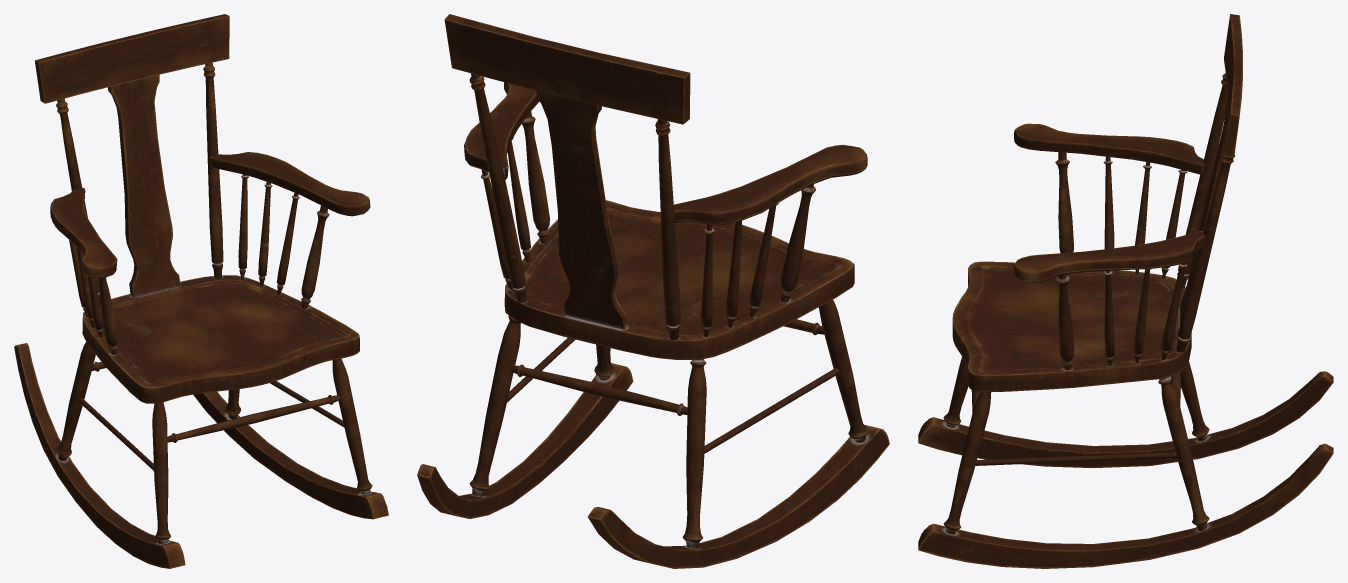
File: Rockingchair_01.glb
3 views of the same model, side by side, from view 1: azimuth 30°, elevation 25°; view 2: azimuth 150°, elevation 25°; view 3: azimuth 270°, elevation 25° (orthographic). The views are drawn at different scales.
Parts seen in each view (by area): view 1: Rockingchair_01; view 2: Rockingchair_01; view 3: Rockingchair_01.
Boxes of the visible parts, x1,y1,x2,y2 form: Rockingchair_01: (14,14,388,568); Rockingchair_01: (417,14,889,568); Rockingchair_01: (918,14,1333,568).
Bounding box in the file's own units: 0.7081 × 0.9949 × 0.8335.
Materials: 1 (1 with a texture image).
